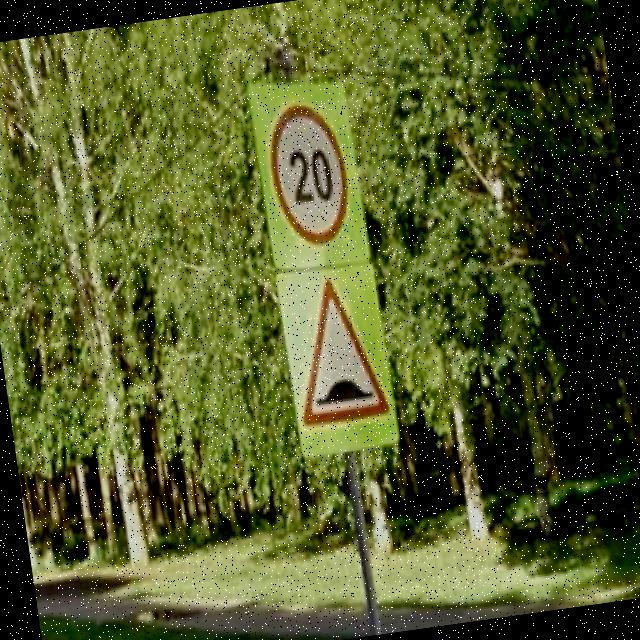Ograniczenie predkosci do 20: (260, 94, 360, 254)
